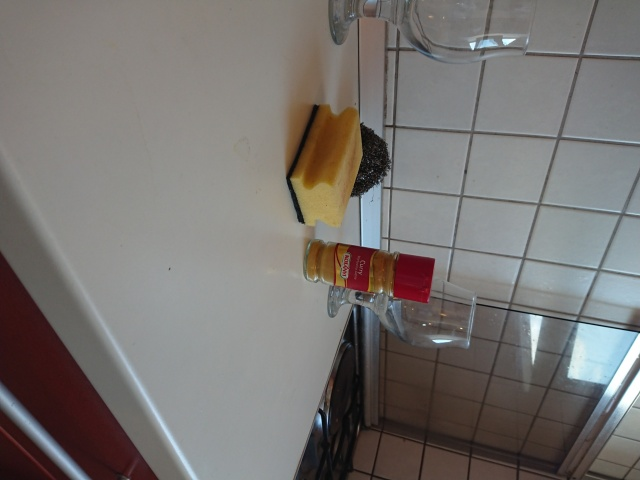Kotanyi Curry Spices Mix 70g: (300, 236, 437, 306)
